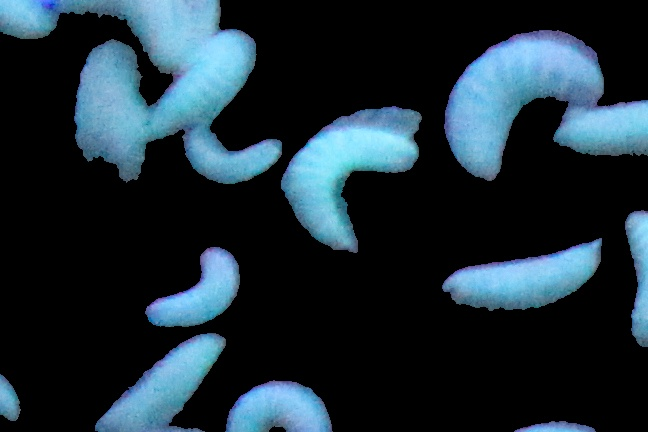larvae: (442, 32, 590, 180), (276, 124, 414, 249), (438, 240, 594, 324), (91, 339, 226, 432), (146, 26, 251, 143), (72, 44, 150, 187), (136, 246, 244, 330), (229, 370, 339, 432), (552, 97, 648, 163), (177, 136, 280, 191)
